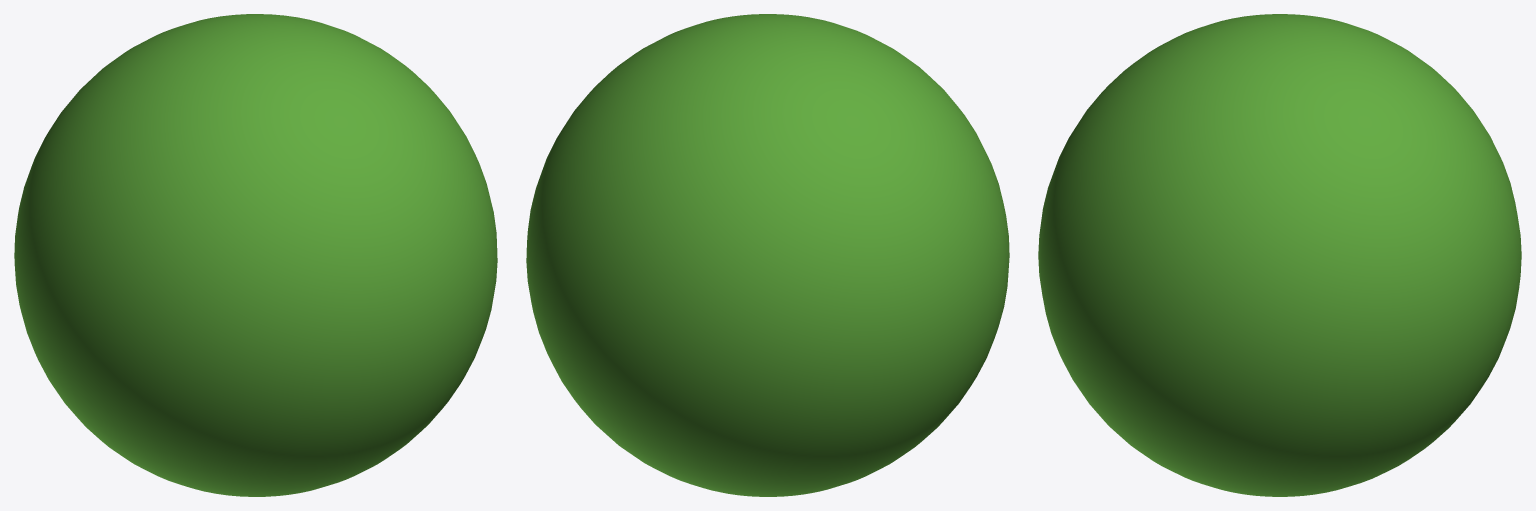
Rendered from hydrogen atoms.fbx.
The picture shows the model from 3 angles, left to right: view 1: azimuth 30°, elevation 25°; view 2: azimuth 150°, elevation 25°; view 3: azimuth 270°, elevation 25°; orthographic projection.
Parts seen in each view (by area): view 1: Body1; view 2: Body1; view 3: Body1.
Part boxes in pixels (x1,y1,x2,y2): Body1: [14, 14, 497, 496]; Body1: [526, 14, 1009, 496]; Body1: [1038, 14, 1521, 496].
Bounding box in the file's own units: 0.063 × 0.063 × 0.063.
